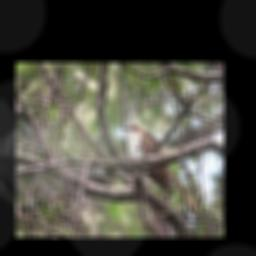Cuckoo: (120, 123, 199, 210)
